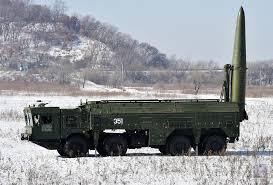rszo: (17, 1, 256, 168)
